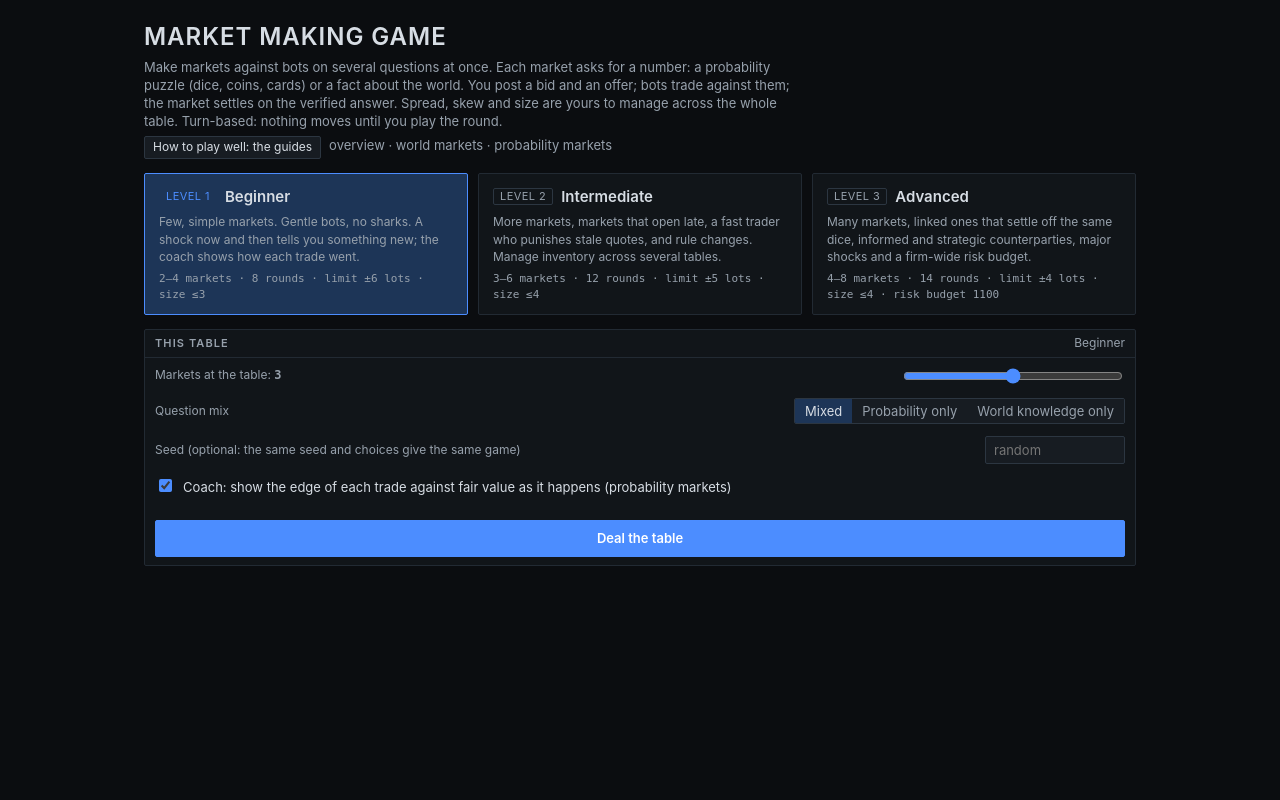
Test case: the table › an unreadable edit stops the round from being played
This screenshot has width=1280, height=800.
Expected: the heading "MARKET MAKING GAME" is shown, left=144, top=22, right=447, bottom=51
Click the button "Deal the table": (640, 539) left=155, top=520, right=1125, bottom=557
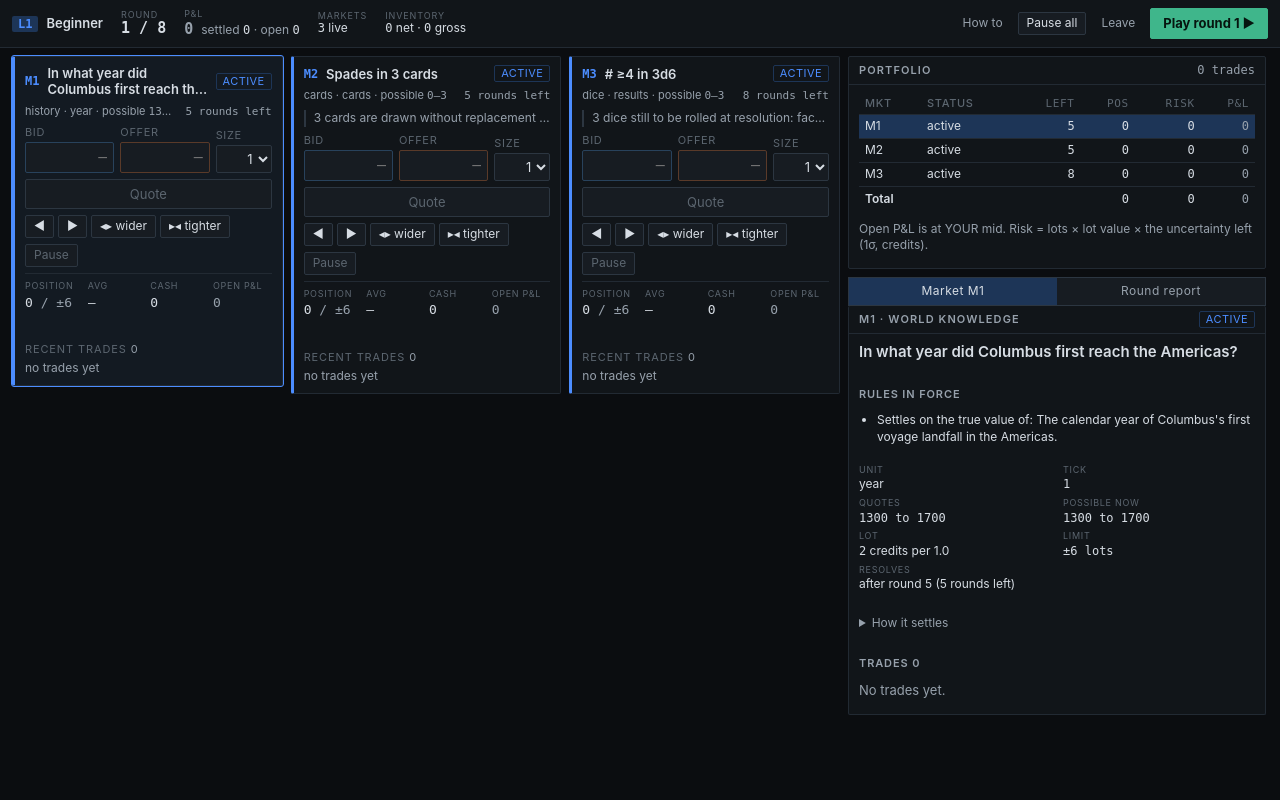
Result: the element with test id "game-table" is shown
In the field named "M1 bid": (70, 158) left=25, top=142, right=114, bottom=173, type "oops"
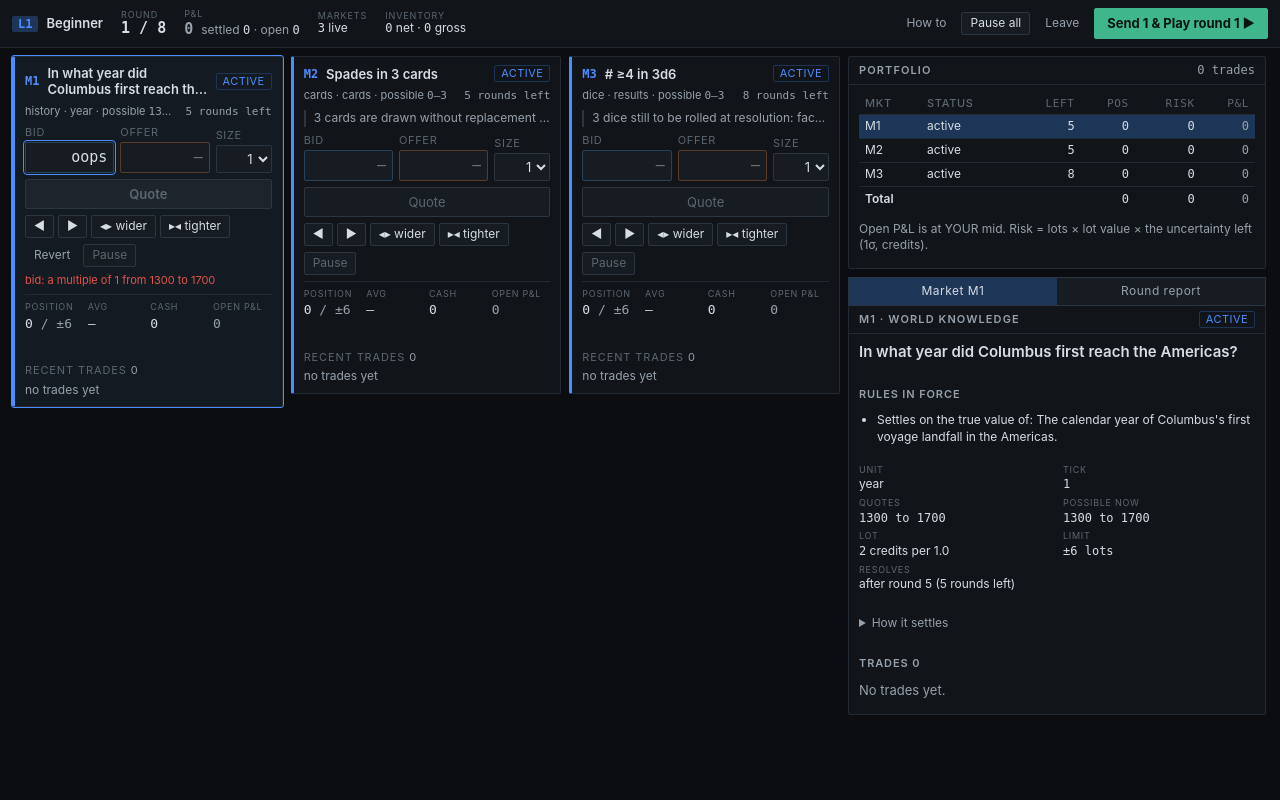
In the field named "M1 offer": (165, 158) left=120, top=142, right=210, bottom=173, type "1500"
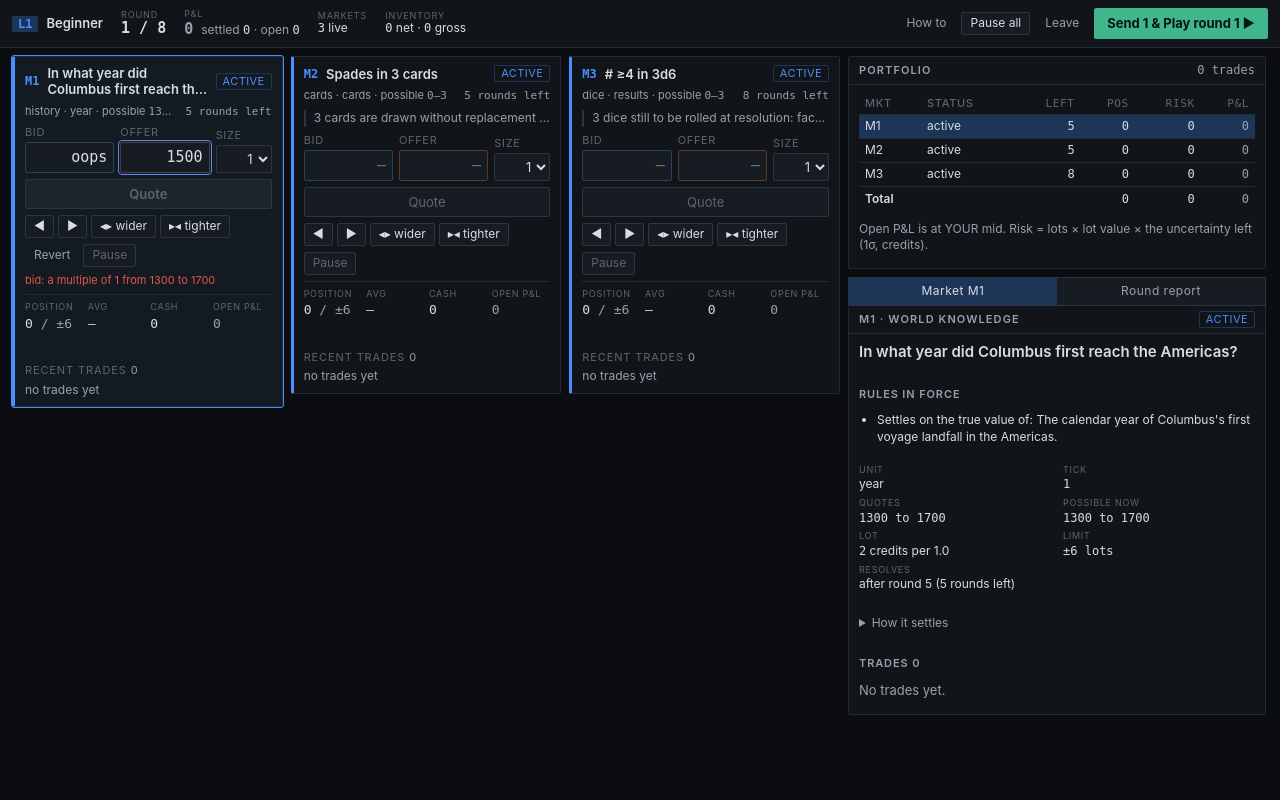
Click the button with test id "advance": (1181, 24) left=1094, top=8, right=1268, bottom=39
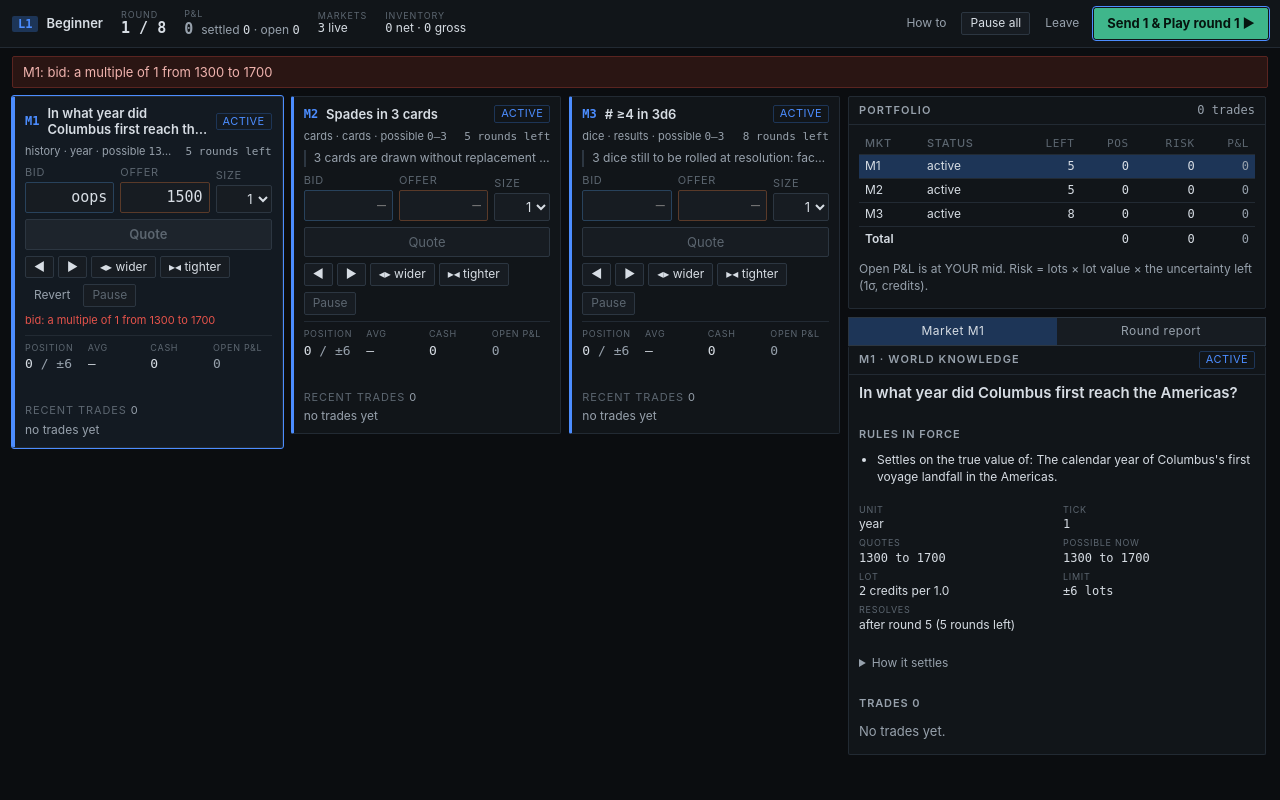
Result: the message shows "M1: bid" at left=23, top=64, right=272, bottom=80
